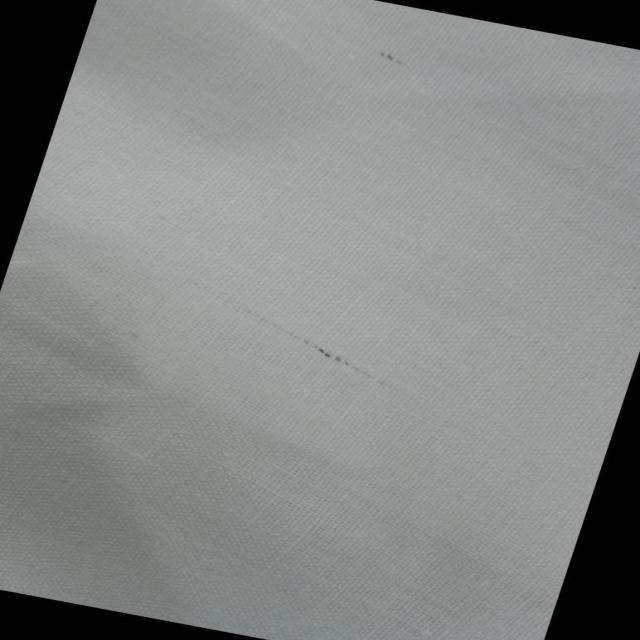contamination: (194, 284, 439, 397)
